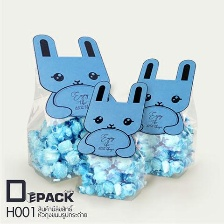snack: (21, 27, 117, 187), (66, 75, 155, 205), (122, 53, 206, 182)
